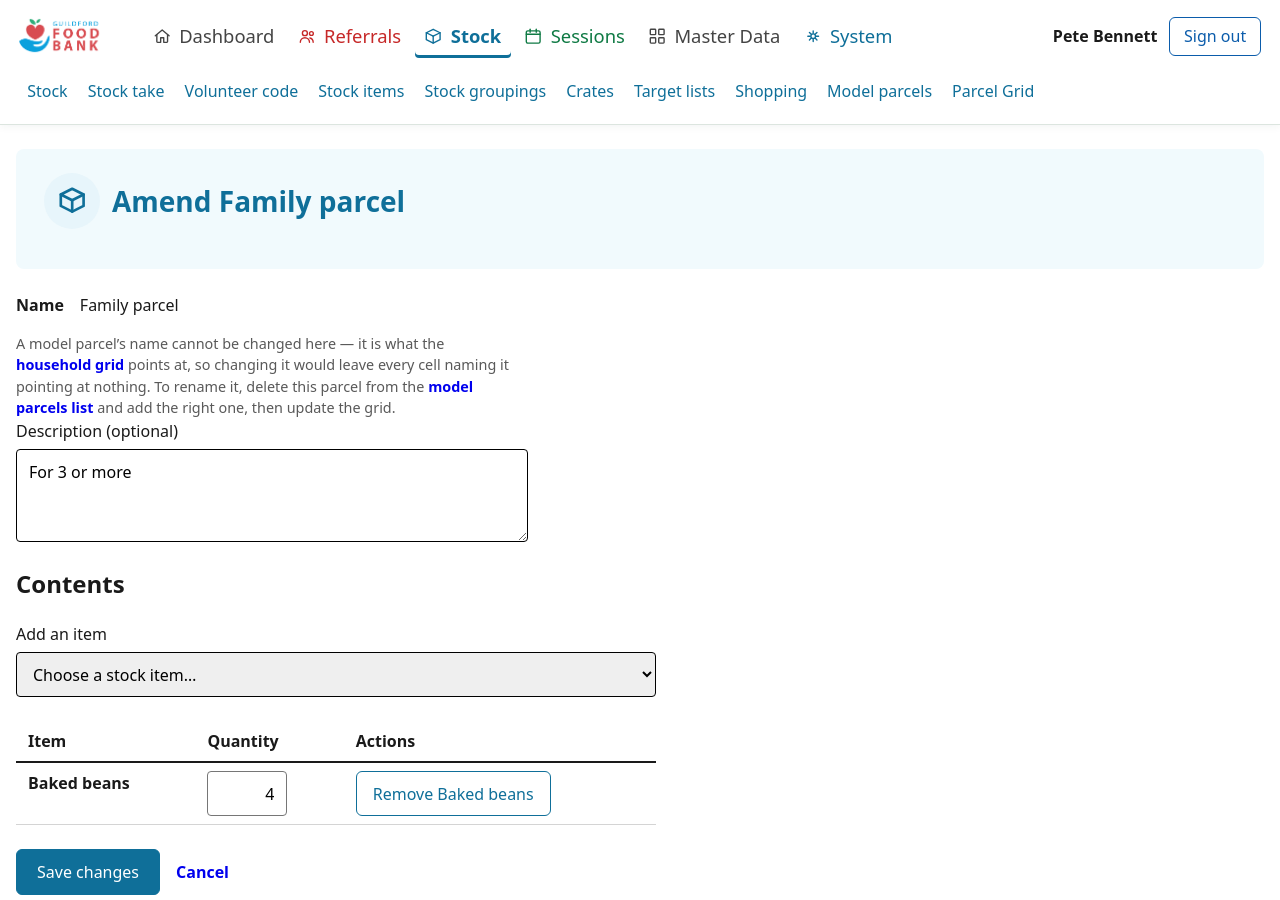
Scenario: amending a model parcel › sends no name field on save — the server silently strips one if it arrives
Replace the text in the text box labelled "Description (optional)" with "Updated" at (272, 496), box left=16, top=449, right=528, bottom=542
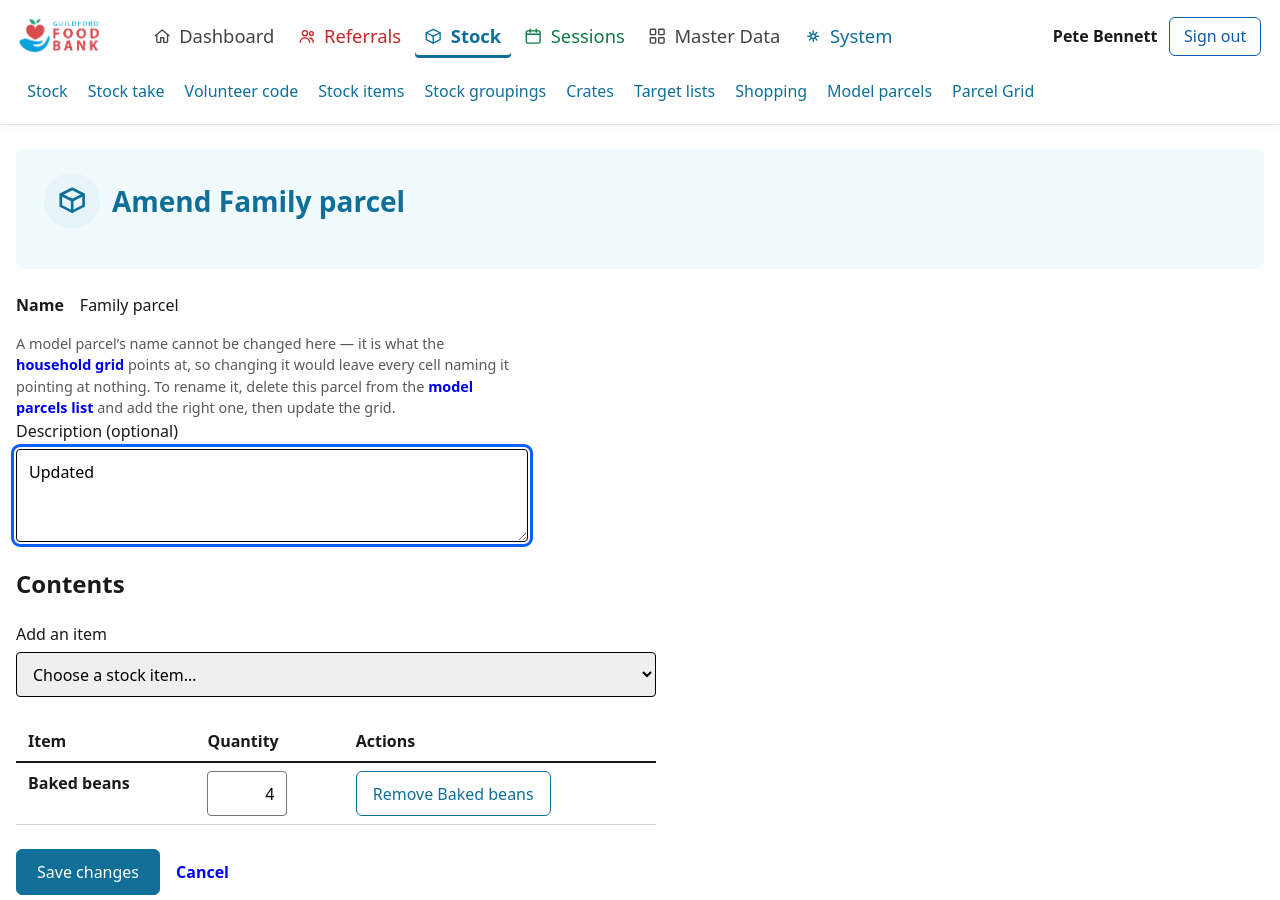
Click the button "Save changes" at (88, 872), box left=16, top=850, right=160, bottom=895
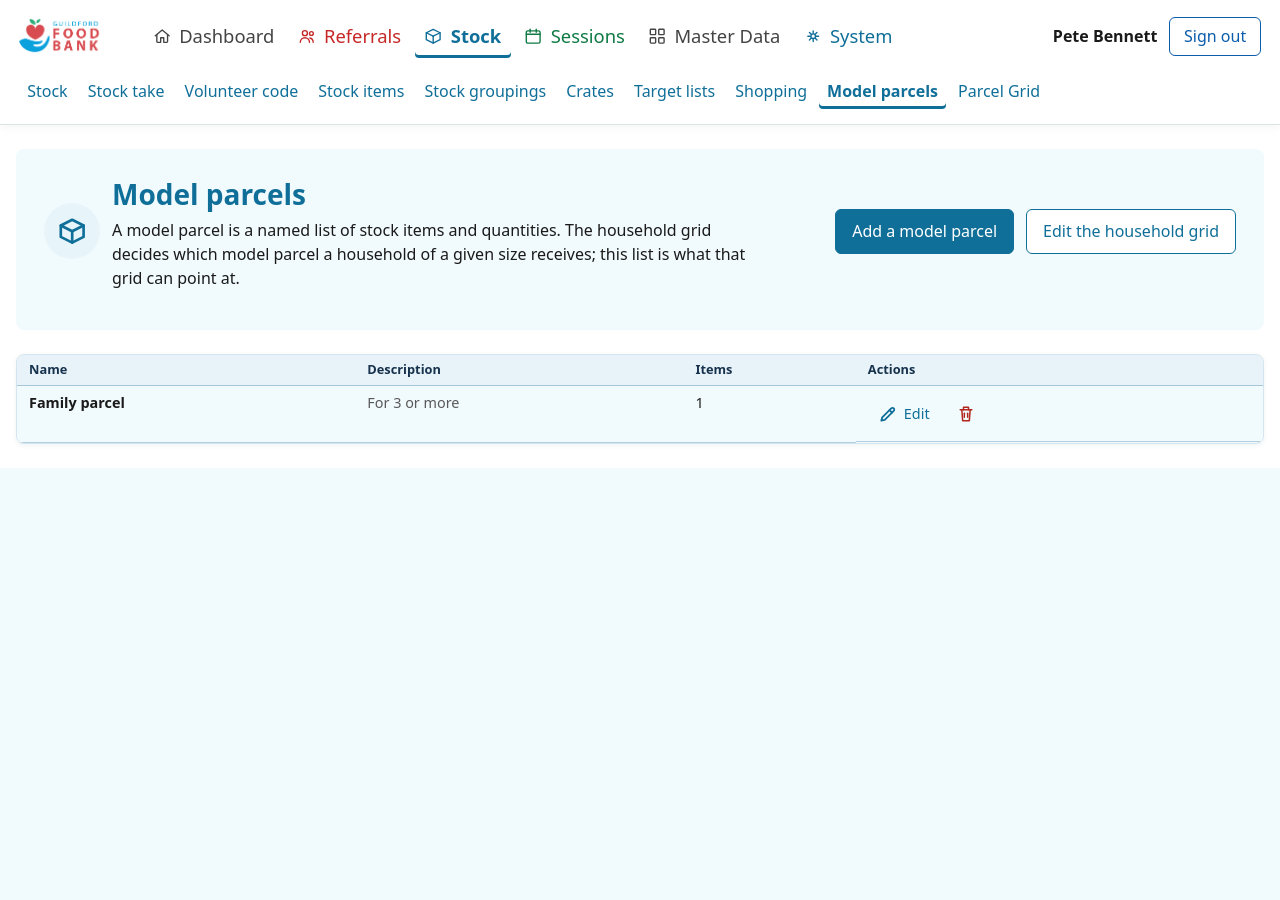
Result: the heading "Model parcels" is shown at left=112, top=175, right=306, bottom=213
